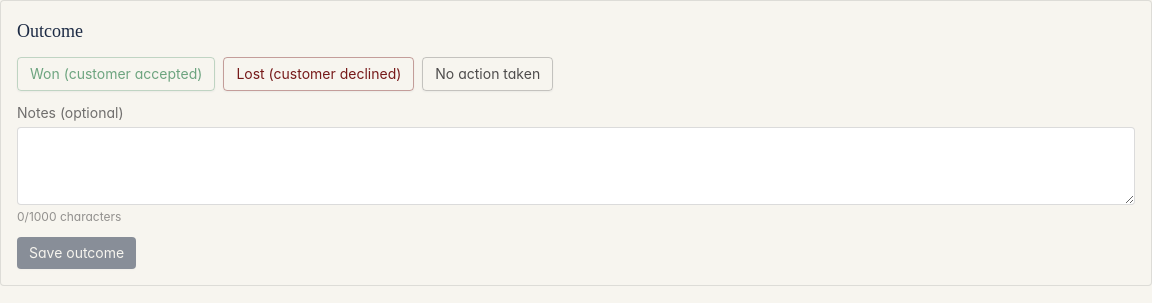
Test: OutcomeCaptureSection (HUB-1641) › AC#4/#5 — submit POSTs to the BE outcome endpoint + onCaptured callback › Save button is disabled until an outcome is picked
Expected: the button with test id "outcome-submit-button" is disabled, x1=17 y1=237 x2=136 y2=269
Step 1. Click the button with test id "outcome-button-no_action" → [488, 74], box x1=422 y1=57 x2=553 y2=91
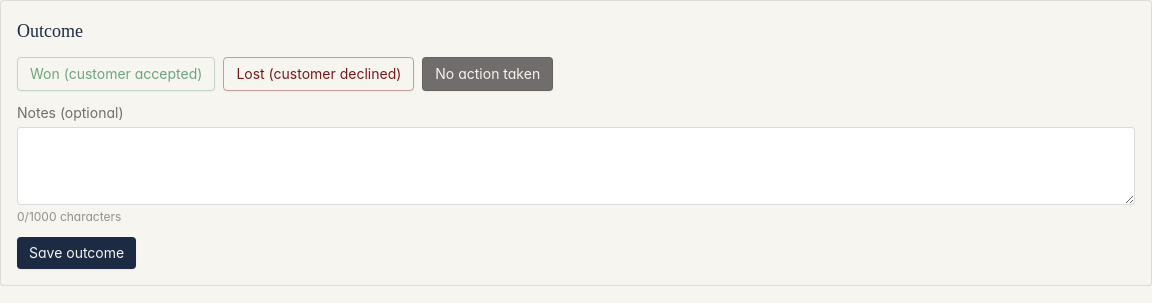
Expected: the button with test id "outcome-submit-button" is enabled, x1=17 y1=237 x2=136 y2=269
